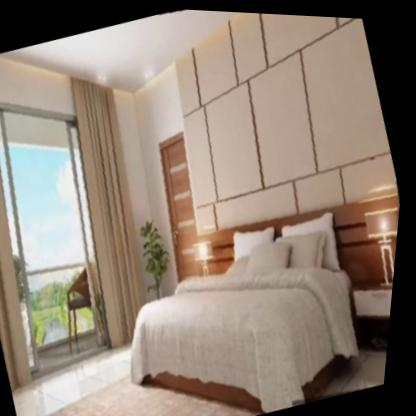Bed: (109, 185, 400, 416)
Curtains: (40, 59, 204, 364), (0, 59, 78, 394)
Lamp: (353, 190, 404, 289)
Nightstand: (350, 265, 399, 362)
